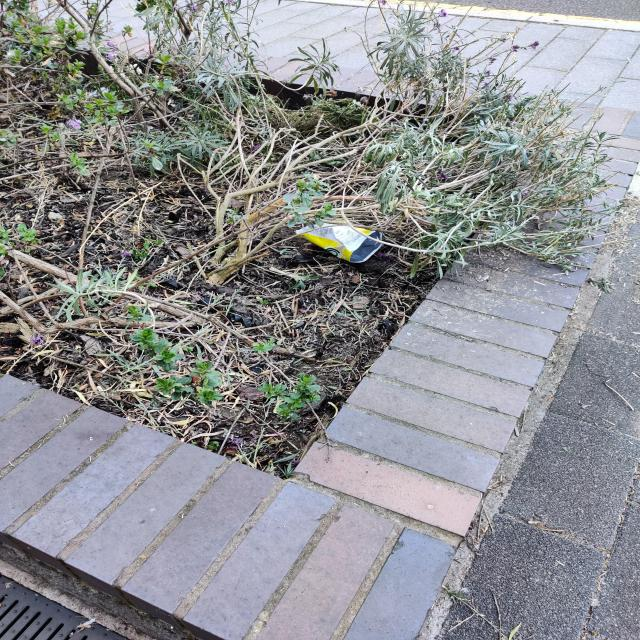litter: (293, 223, 385, 264)
